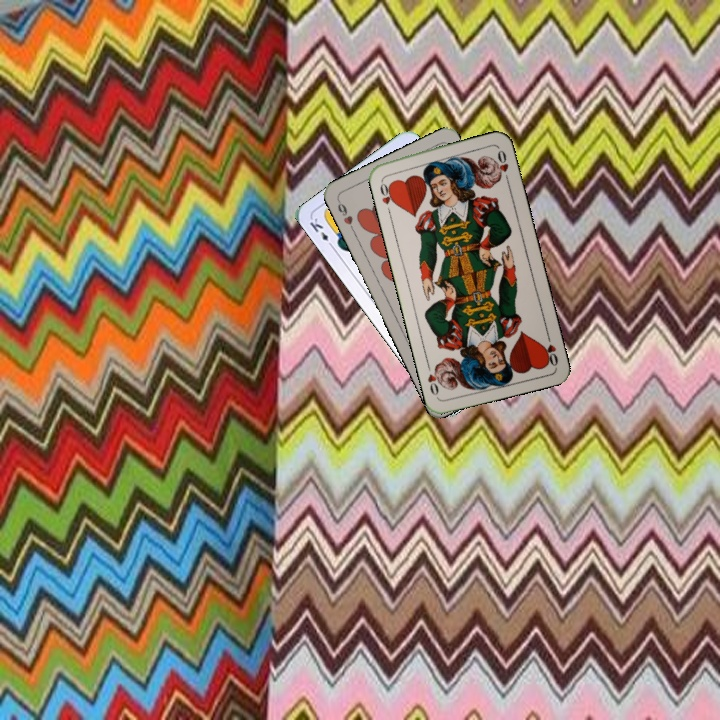EK: (306, 214, 337, 251)
H9: (333, 195, 357, 233)
HO: (376, 176, 399, 216), (539, 328, 561, 369)
